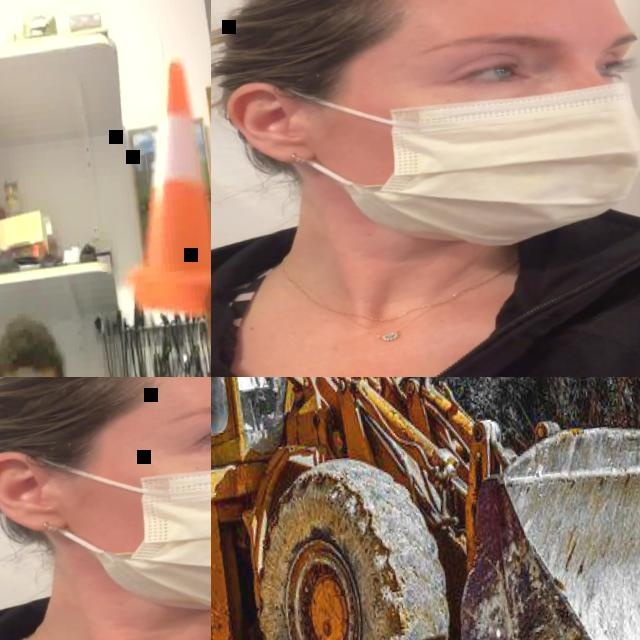Mask: (284, 45, 640, 267), (32, 408, 211, 639)
NO-Hardhat: (211, 0, 623, 53), (0, 315, 66, 377)
NO-Safety Vest: (211, 213, 640, 377), (0, 577, 211, 640)
Person: (211, 0, 640, 377), (0, 377, 211, 640), (0, 288, 211, 377)
Safety Cone: (105, 51, 211, 326)
machinery: (211, 377, 640, 640)
